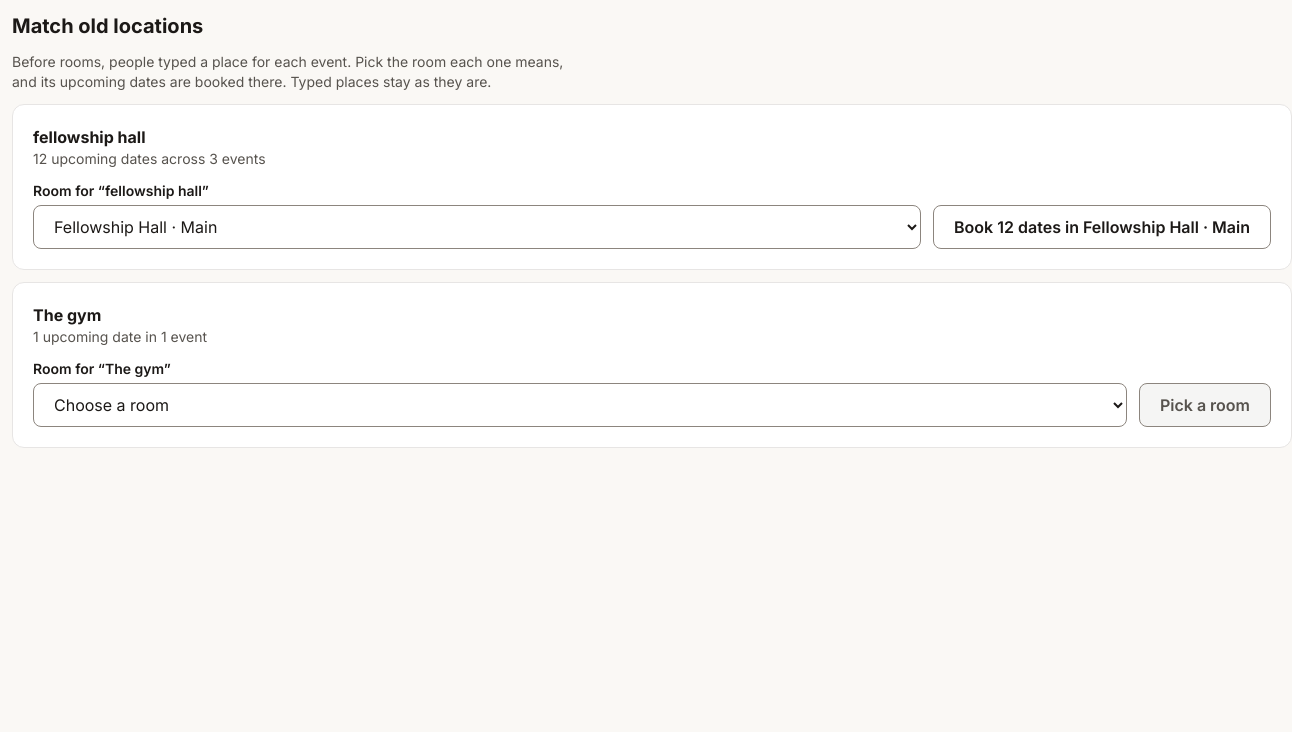
MatchLocations › says the dates already have rooms when nothing was booked and nothing was taken
Expected: the text "The gym" is shown, 33,305 -> 101,325
Select "Chapel" in the dropdown labelled "Room for “The gym”" at (580, 405), box 33,383 -> 1127,427
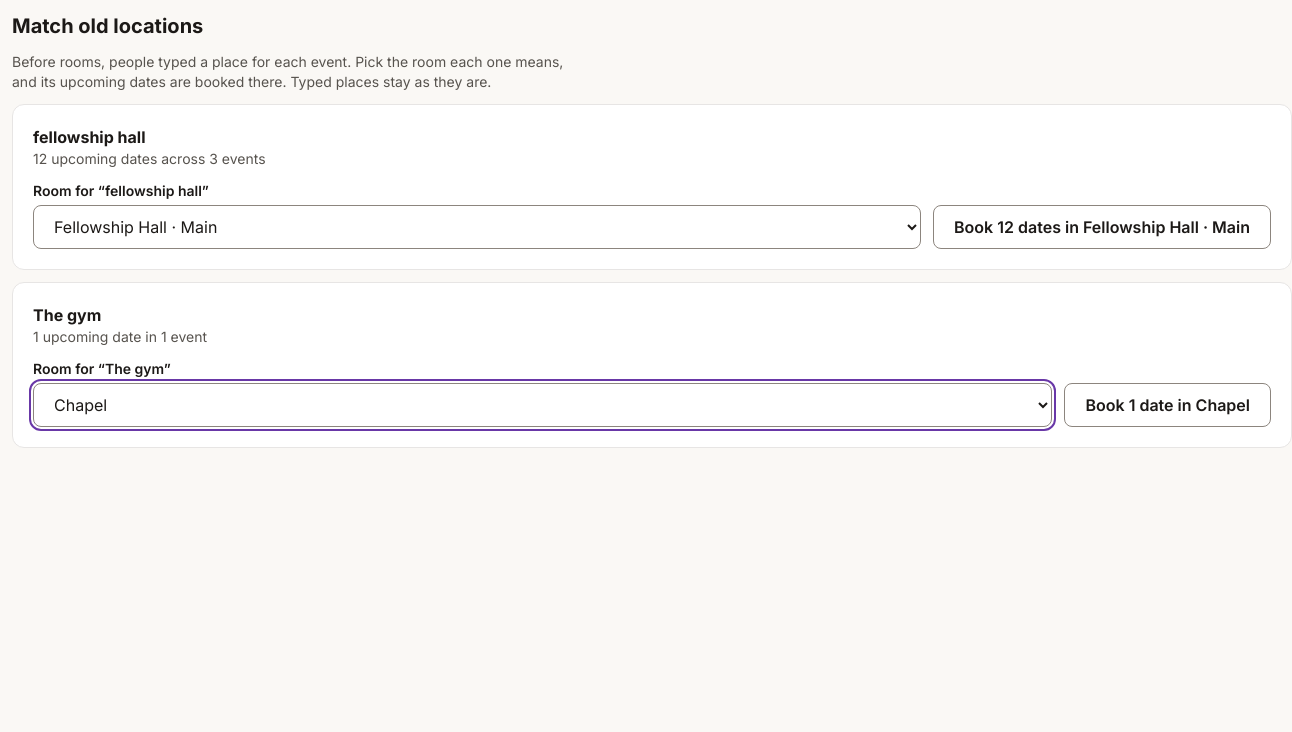
Click the button "Book 1 date in Chapel".
click(1168, 405)  # box 1064,383 -> 1271,427
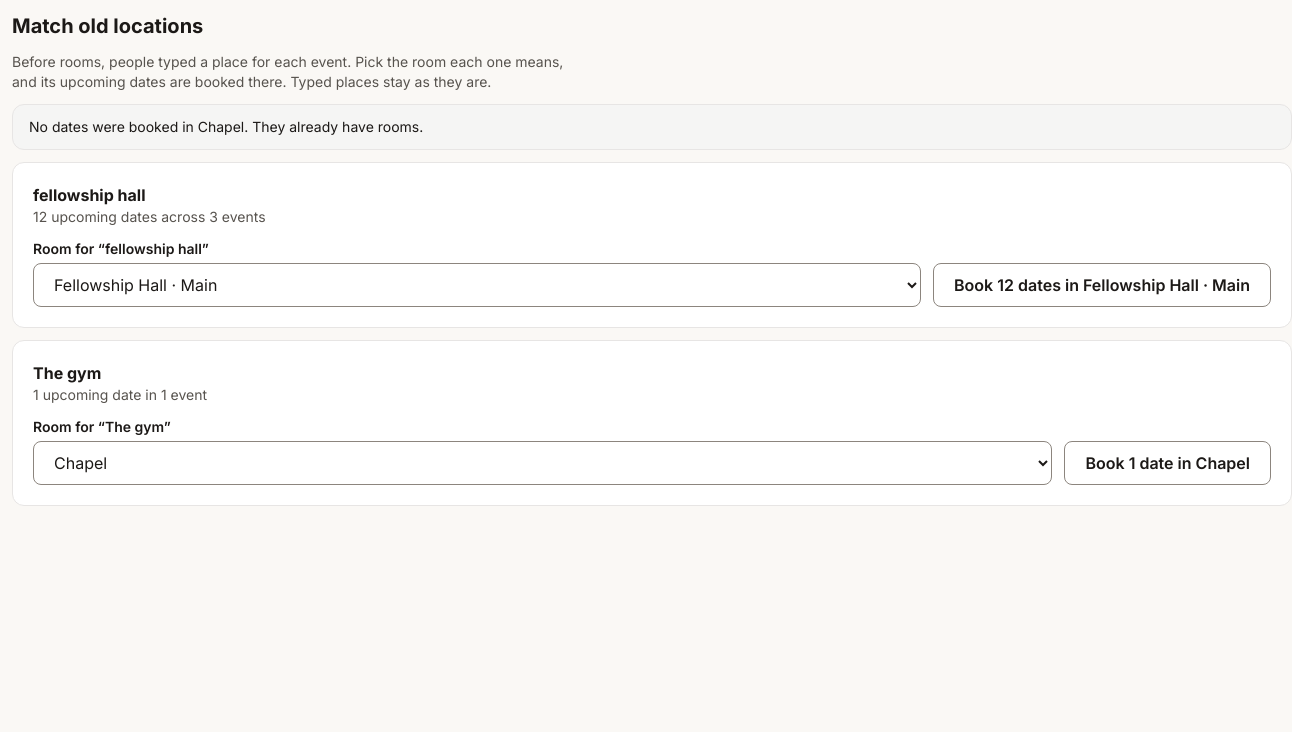
Expected: the message reads "No dates were booked in Chapel. They already have rooms.", 29,118 -> 423,135
